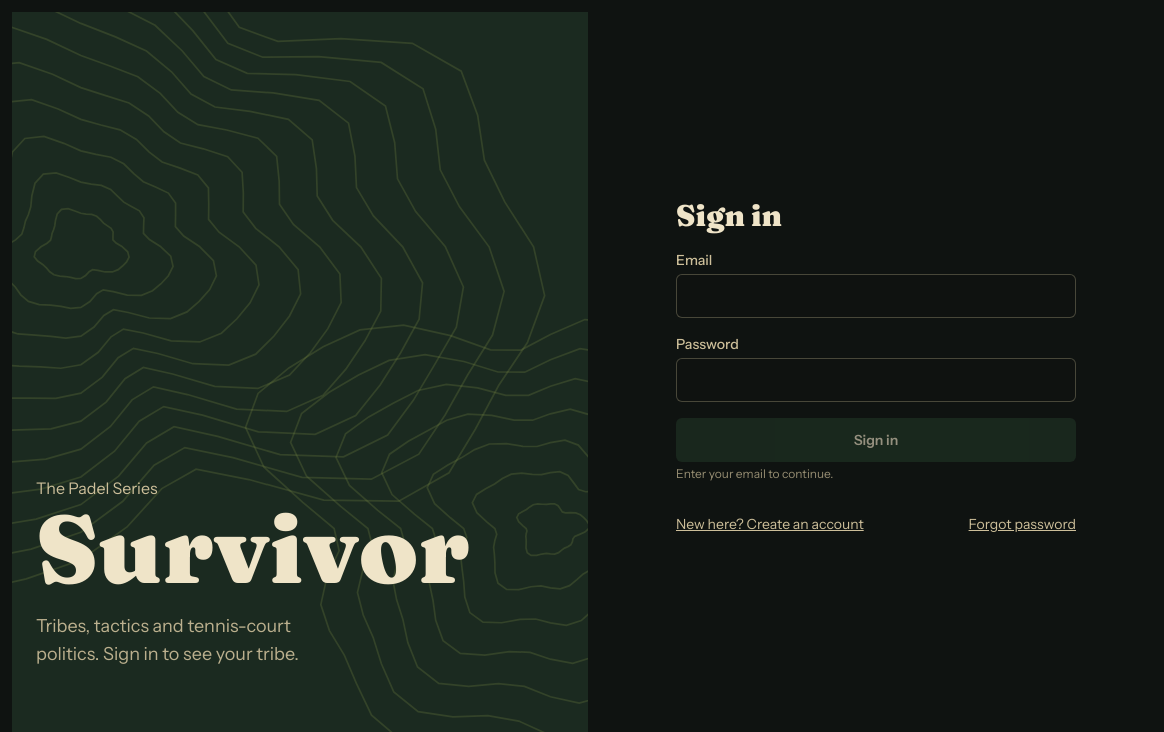
Test case: sign-in flow › handles signing up twice with the same email gracefully
Click the button "New here? Create an account" at (770, 524), box [676,502,864,546]
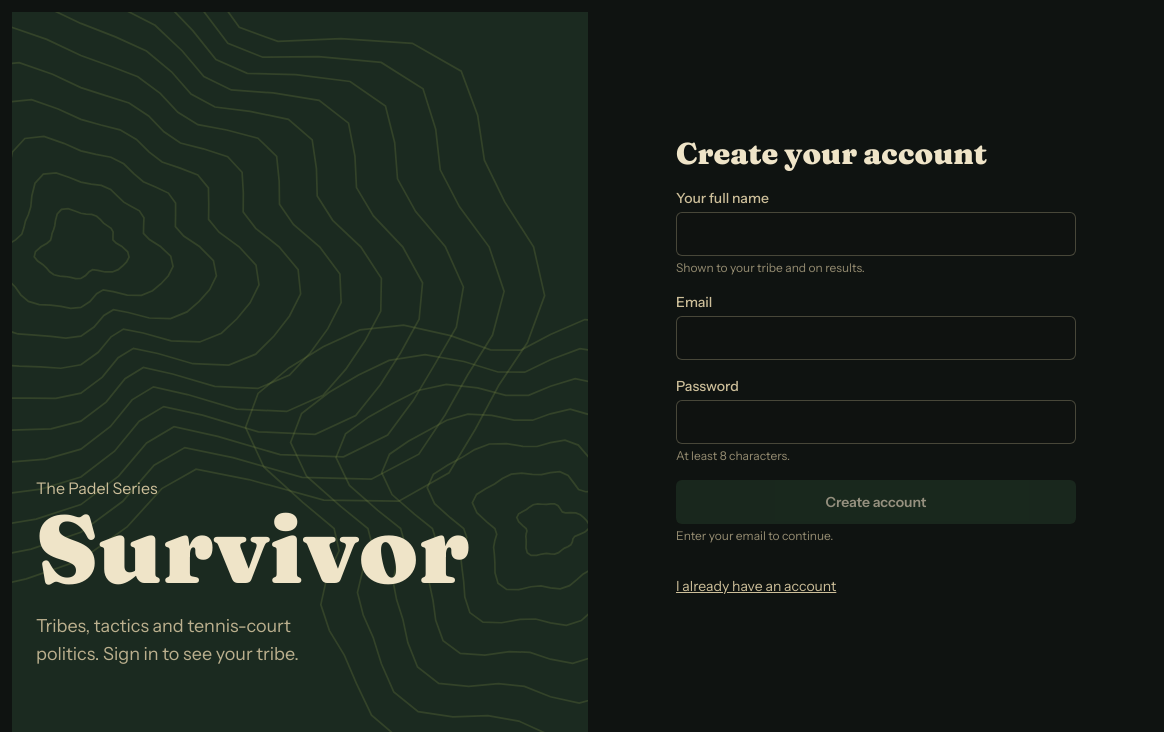
Type "Sam" into the field labelled "Your full name" at (876, 234), box [676,212,1076,256]
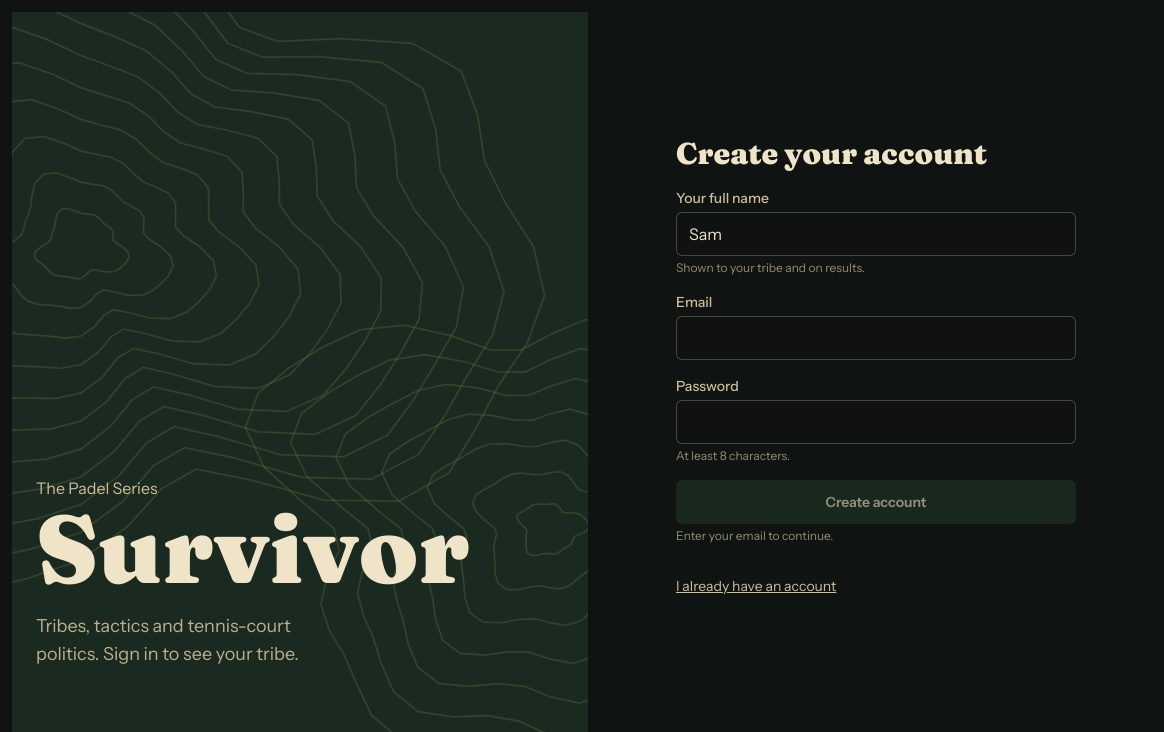
Type "a@b.co" into the field labelled "Email" at (876, 338), box [676,316,1076,360]
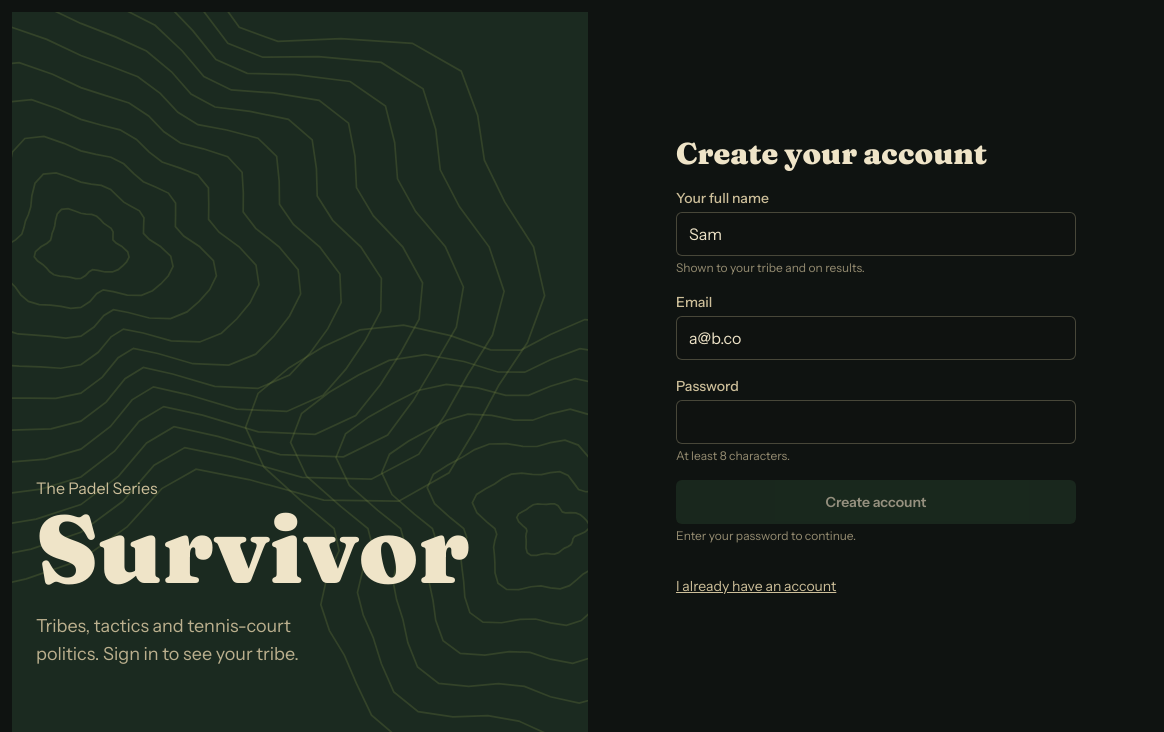
Type "password123" into the password field labelled "Password" at (876, 422), box [676,400,1076,444]
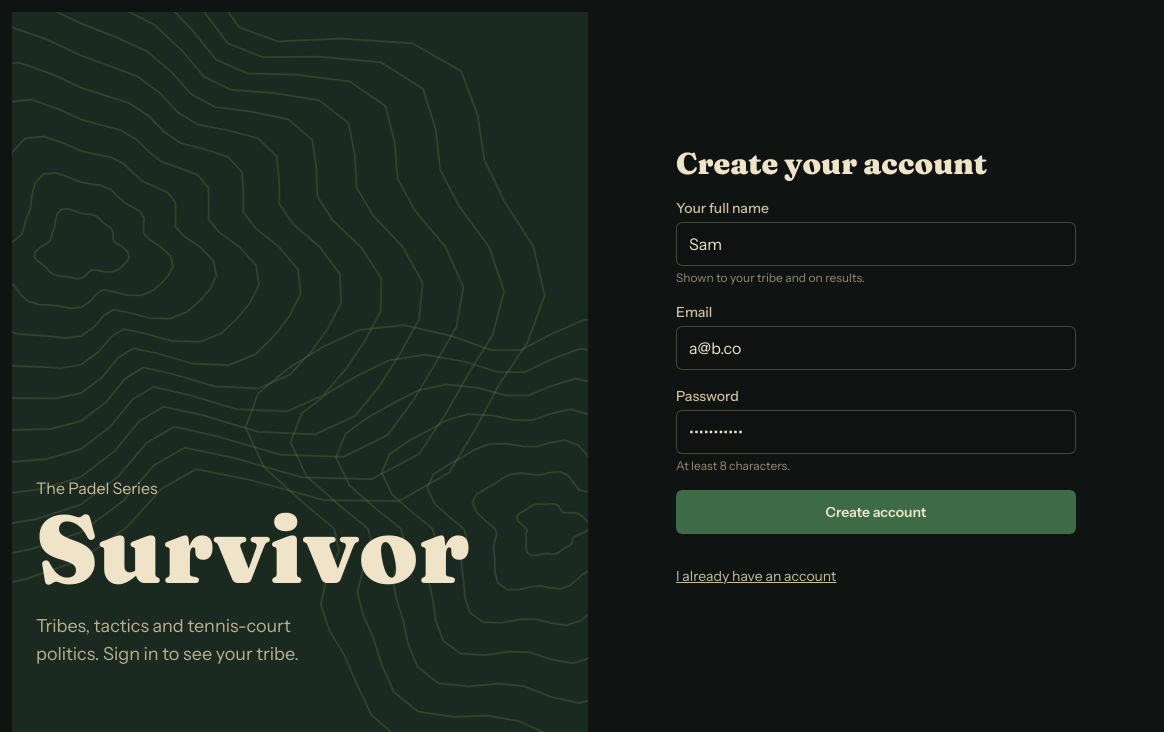
Click the button "Create account" at (876, 512), box [676,490,1076,534]
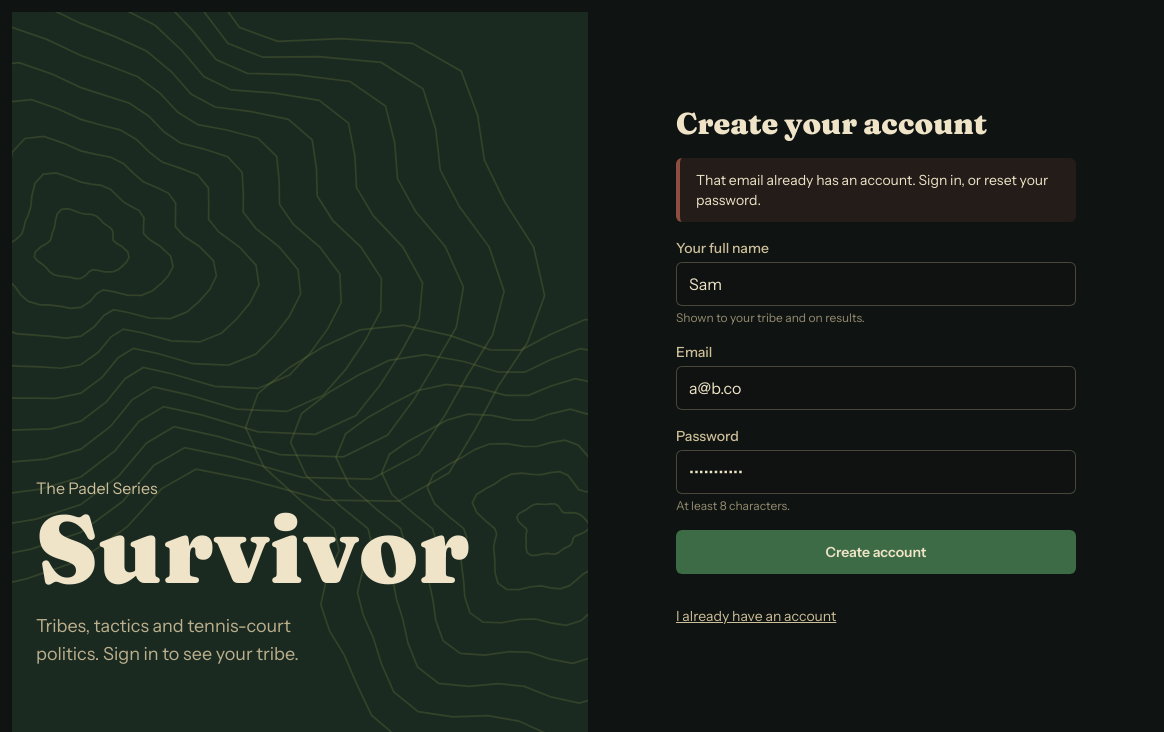
expect the message shows "already has an account": met, box [696,171,1048,209]
